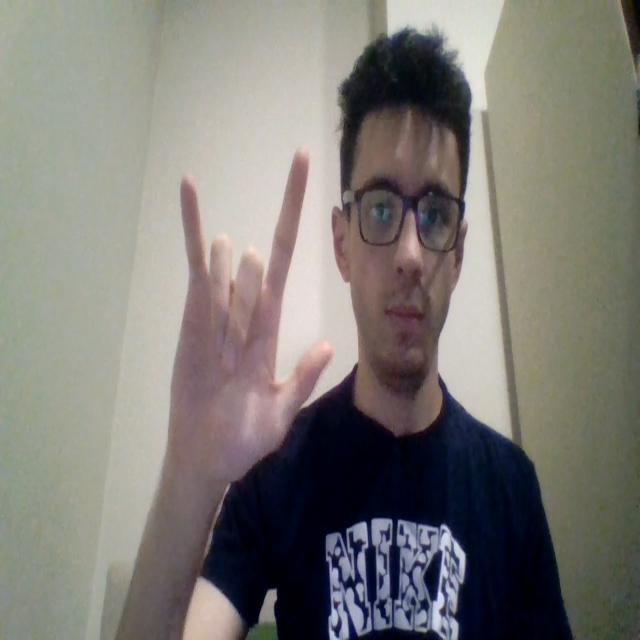iloveyou: (165, 146, 333, 486)
